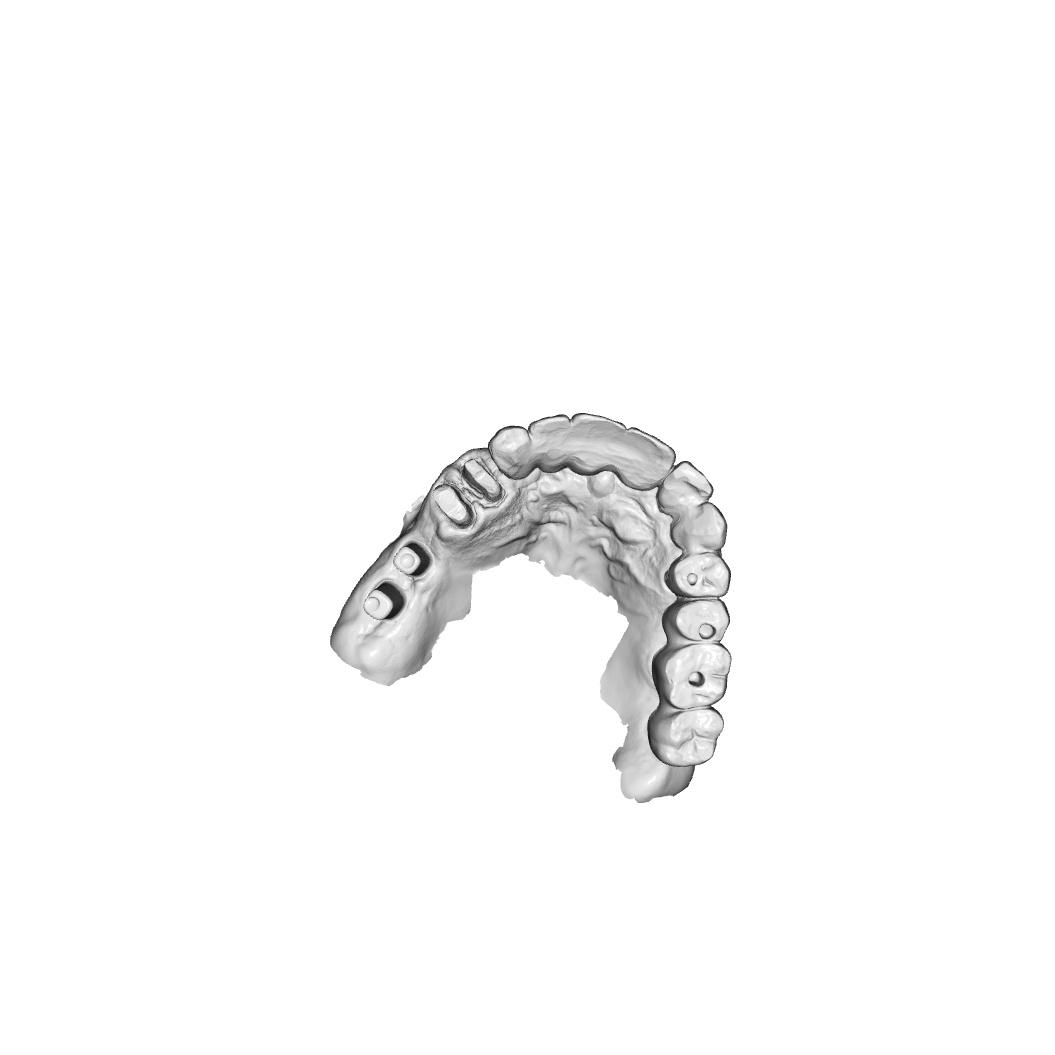abutment: (363, 581, 407, 621), (392, 542, 434, 578)
canine: (669, 500, 729, 554), (487, 424, 534, 481)
crown: (460, 457, 508, 509), (431, 482, 478, 530)
incisor: (618, 427, 677, 492), (570, 411, 627, 477), (655, 460, 715, 517), (527, 413, 571, 474)
molar: (651, 642, 733, 710), (646, 707, 725, 768)
premolar: (664, 553, 733, 599), (663, 598, 731, 642)
